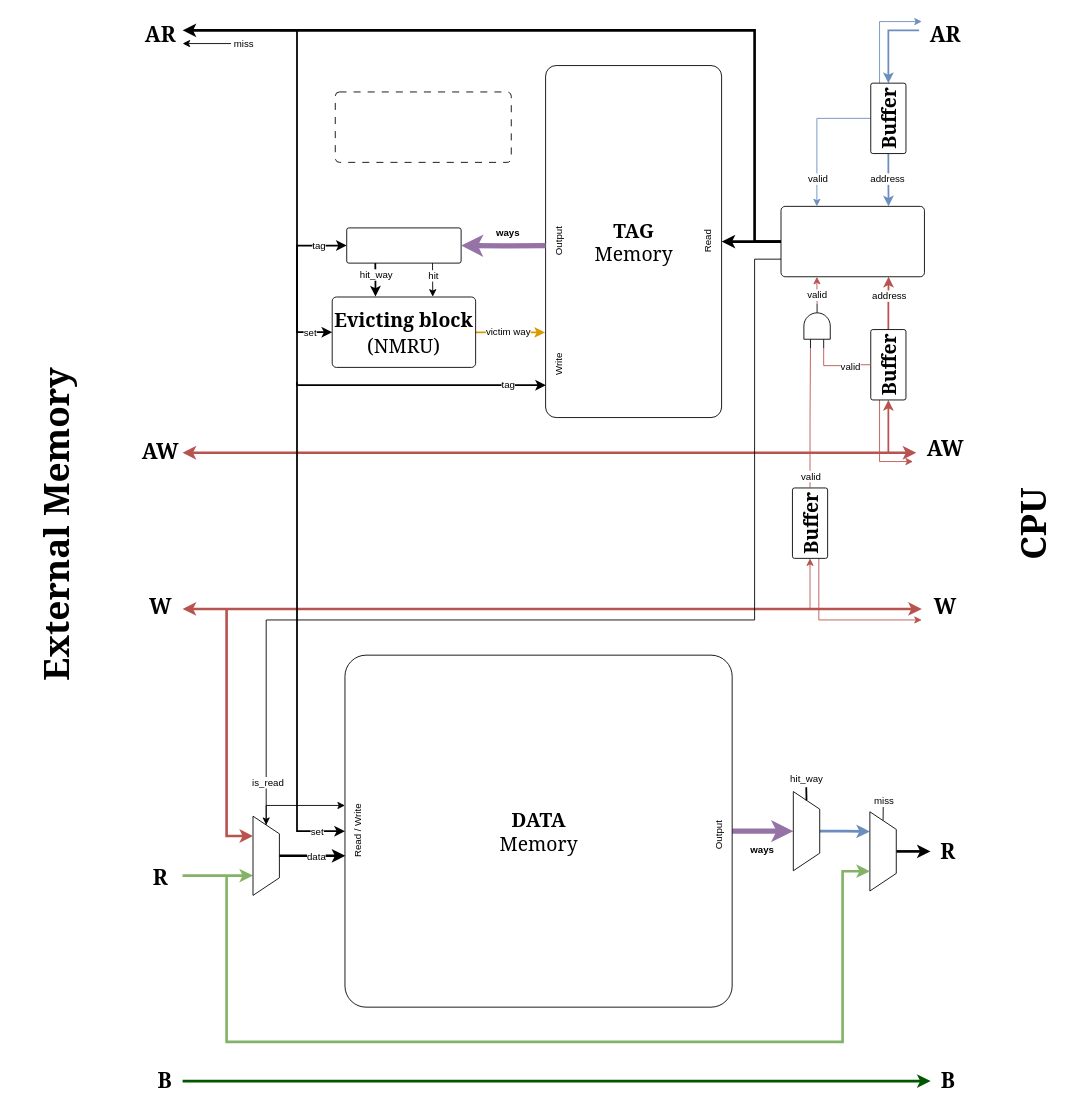
The diagram is 1086 pixels wide and 1109 high, and some of its shapes have lost their labels. Here are the shapes that lost their labels. From the top down, the centre of each, then its label:
At point 422,126: "Statistics Block (Counters)".
At point 403,245: "Comparator".
At point 852,241: "Arbiter (Round-Robin)".
